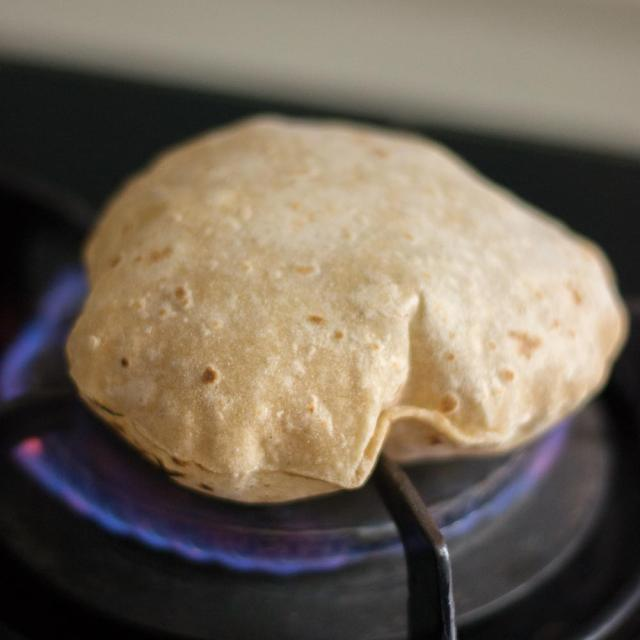chapati: (77, 107, 636, 513)
